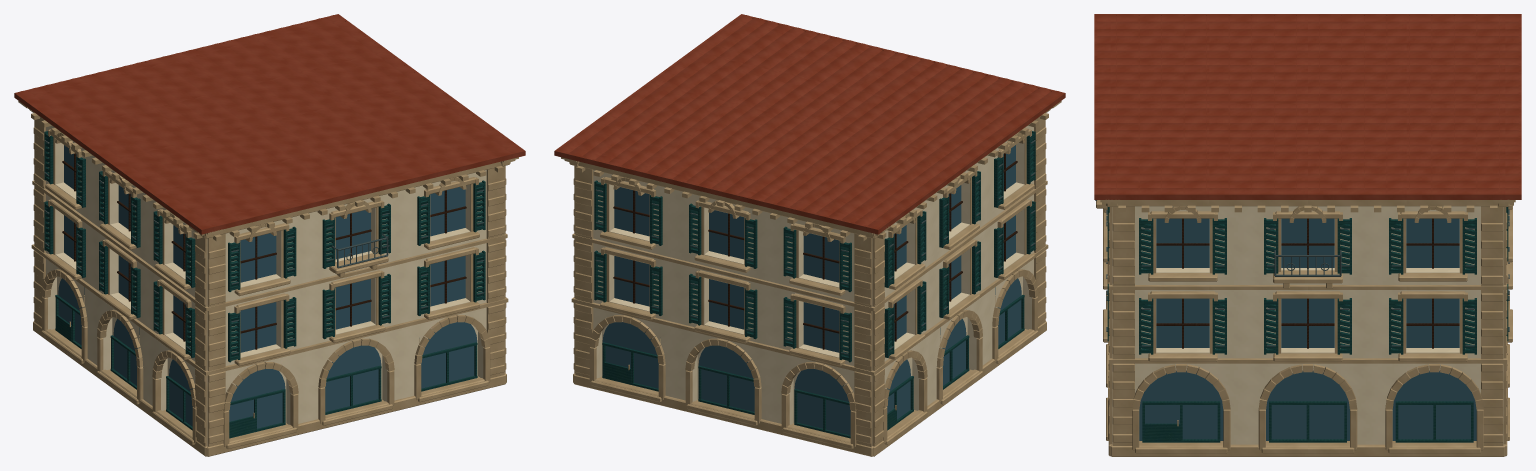
The model's file is arcade.glb.
3 views of the same model, side by side, from view 1: azimuth 30°, elevation 25°; view 2: azimuth 150°, elevation 25°; view 3: azimuth 270°, elevation 25° (orthographic). The views are drawn at different scales.
Visible parts, largest first — view 1: Barrel terracotta, Honey limestone, Arcade pale plaster, Deep blue glazing, Aged teal timber, Oiled walnut, Graphite iron; view 2: Barrel terracotta, Honey limestone, Arcade pale plaster, Deep blue glazing, Aged teal timber, Oiled walnut, Graphite iron; view 3: Barrel terracotta, Honey limestone, Deep blue glazing, Arcade pale plaster, Aged teal timber, Oiled walnut, Graphite iron.
Part boxes in pixels (x1=…): Barrel terracotta: x1=14, y1=14, x2=525, y2=234; Honey limestone: x1=18, y1=101, x2=518, y2=456; Arcade pale plaster: x1=46, y1=126, x2=486, y2=445; Deep blue glazing: x1=58, y1=145, x2=477, y2=428; Aged teal timber: x1=44, y1=131, x2=485, y2=438; Oiled walnut: x1=62, y1=153, x2=466, y2=349; Graphite iron: x1=44, y1=140, x2=484, y2=354; Barrel terracotta: x1=554, y1=14, x2=1065, y2=234; Honey limestone: x1=561, y1=101, x2=1061, y2=456; Arcade pale plaster: x1=593, y1=126, x2=1033, y2=445; Deep blue glazing: x1=602, y1=145, x2=1021, y2=435; Aged teal timber: x1=594, y1=131, x2=1035, y2=438; Oiled walnut: x1=613, y1=153, x2=1017, y2=349; Graphite iron: x1=595, y1=140, x2=1035, y2=354; Barrel terracotta: x1=1094, y1=14, x2=1521, y2=199; Honey limestone: x1=1096, y1=199, x2=1515, y2=456; Deep blue glazing: x1=1139, y1=218, x2=1476, y2=440; Arcade pale plaster: x1=1112, y1=206, x2=1503, y2=444; Aged teal timber: x1=1107, y1=207, x2=1508, y2=442; Oiled walnut: x1=1156, y1=218, x2=1459, y2=348; Graphite iron: x1=1095, y1=200, x2=1509, y2=346.
Size of the model in its own units: 13 by 9.04 by 13.
7 materials, 5 textured.
